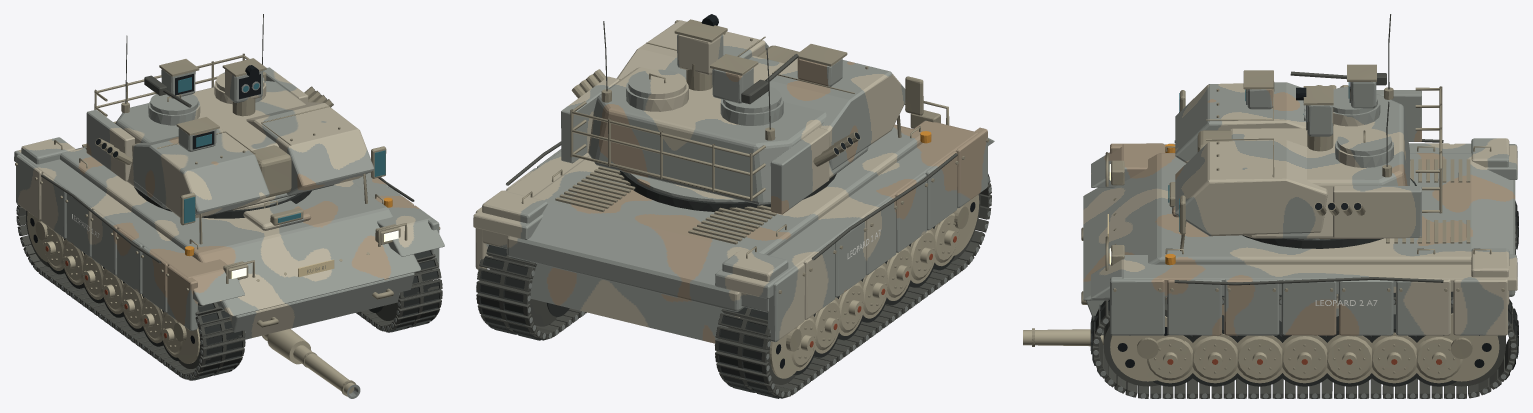
File: leopard.glb
The picture shows the model from 3 angles, left to right: view 1: azimuth 30°, elevation 25°; view 2: azimuth 150°, elevation 25°; view 3: azimuth 270°, elevation 25°; orthographic projection. The views are drawn at different scales.
Visible parts, largest first — view 1: body_material_1, turret_material_2, tracks_material_1, turret_material_3, tracks_material_3, tracks_material_2, body_material_2, cannon_material_2, turret_material_5, turret_material_4, tracks_material_0, tracks_material_4 (+3 smaller); view 2: body_material_1, turret_material_2, tracks_material_1, turret_material_3, tracks_material_3, tracks_material_2, body_material_2, turret_material_1, tracks_material_0, body_material_7, tracks_material_4, turret_material_0; view 3: body_material_1, turret_material_2, tracks_material_3, tracks_material_1, turret_material_3, body_material_2, tracks_material_2, tracks_material_0, tracks_material_4, cannon_material_2, body_material_7, turret_material_1 (+2 smaller).
Boxes of the visible parts, left/top/right/bottom form: body_material_1: left=14, top=137, right=444, bottom=339; turret_material_2: left=86, top=67, right=374, bottom=218; tracks_material_1: left=16, top=204, right=442, bottom=379; turret_material_3: left=94, top=53, right=386, bottom=244; tracks_material_3: left=27, top=212, right=200, bottom=363; tracks_material_2: left=47, top=238, right=440, bottom=380; body_material_2: left=15, top=140, right=440, bottom=327; cannon_material_2: left=264, top=329, right=354, bottom=394; turret_material_5: left=178, top=77, right=385, bottom=223; turret_material_4: left=96, top=65, right=326, bottom=157; tracks_material_0: left=16, top=209, right=442, bottom=379; tracks_material_4: left=35, top=221, right=186, bottom=347; body_material_1: left=473, top=120, right=994, bottom=343; turret_material_2: left=561, top=20, right=905, bottom=214; tracks_material_1: left=476, top=174, right=991, bottom=397; turret_material_3: left=570, top=19, right=923, bottom=200; tracks_material_3: left=769, top=194, right=979, bottom=378; tracks_material_2: left=479, top=226, right=955, bottom=398; body_material_2: left=521, top=101, right=989, bottom=293; turret_material_1: left=619, top=171, right=836, bottom=212; tracks_material_0: left=476, top=177, right=991, bottom=397; body_material_7: left=506, top=141, right=957, bottom=260; tracks_material_4: left=786, top=206, right=968, bottom=358; turret_material_0: left=603, top=21, right=798, bottom=129; body_material_1: left=1083, top=138, right=1517, bottom=335; turret_material_2: left=1175, top=82, right=1421, bottom=239; tracks_material_3: left=1110, top=313, right=1499, bottom=383; tracks_material_1: left=1092, top=225, right=1516, bottom=398; turret_material_3: left=1180, top=64, right=1442, bottom=251; body_material_2: left=1081, top=146, right=1504, bottom=304; tracks_material_2: left=1090, top=201, right=1518, bottom=398; tracks_material_0: left=1093, top=234, right=1516, bottom=398; tracks_material_4: left=1137, top=337, right=1472, bottom=373; cannon_material_2: left=1023, top=329, right=1103, bottom=346; body_material_7: left=1174, top=139, right=1443, bottom=285; turret_material_1: left=1242, top=178, right=1416, bottom=248.
Bounding box in the file's own units: 3.86 × 3.91 × 5.72.
15 materials, 2 textured.
